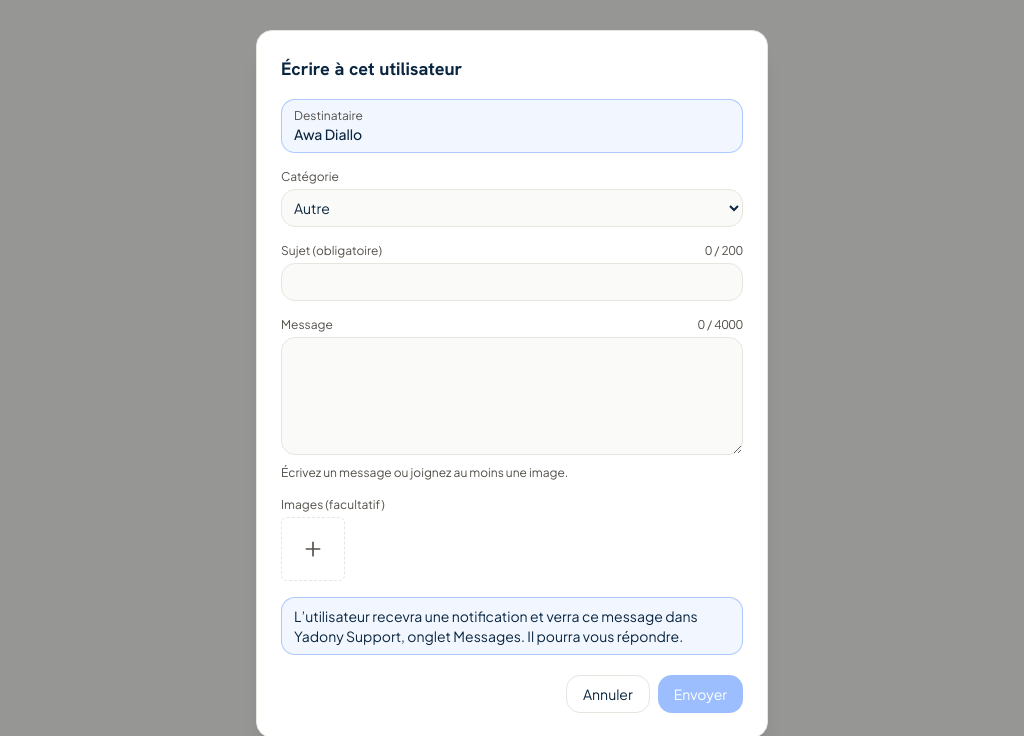
Test: StartSupportConversationDialog › 422 sur les pièces jointes : message sous les images
Type "Votre colis" into the field with test id "start-subject" at {"x": 512, "y": 282}, box [281,263,743,301]
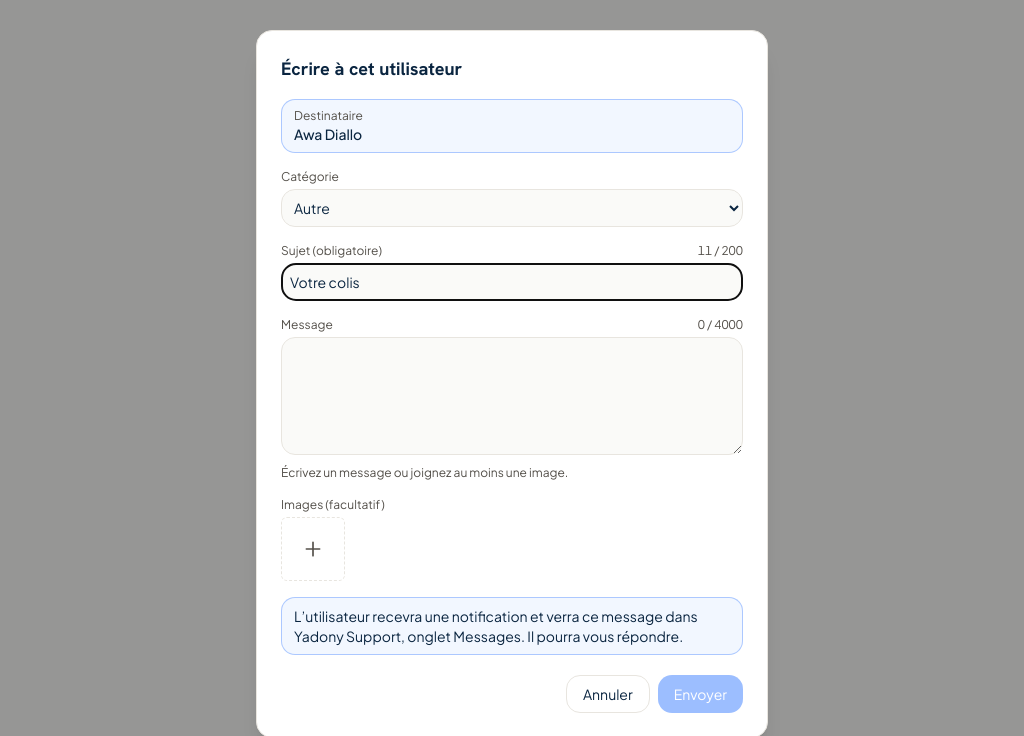
Type "Bonjour Awa" into the text box with test id "start-message" at {"x": 512, "y": 396}, box [281,337,743,455]
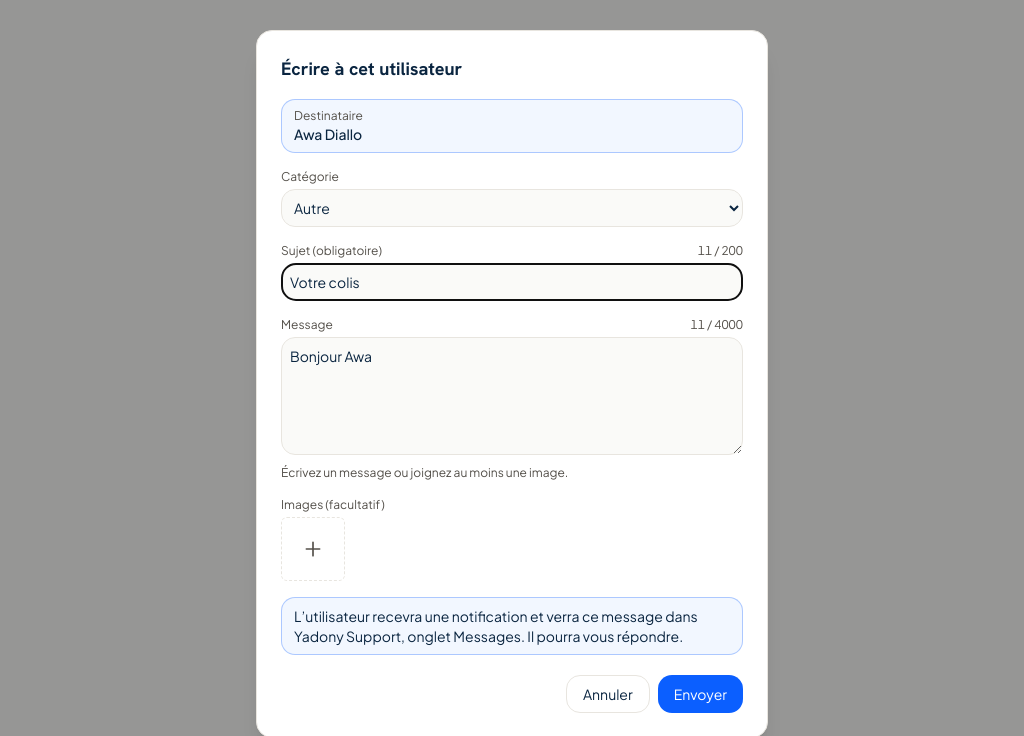
Click the button with test id "start-submit" at {"x": 700, "y": 694}, box [658,675,743,713]
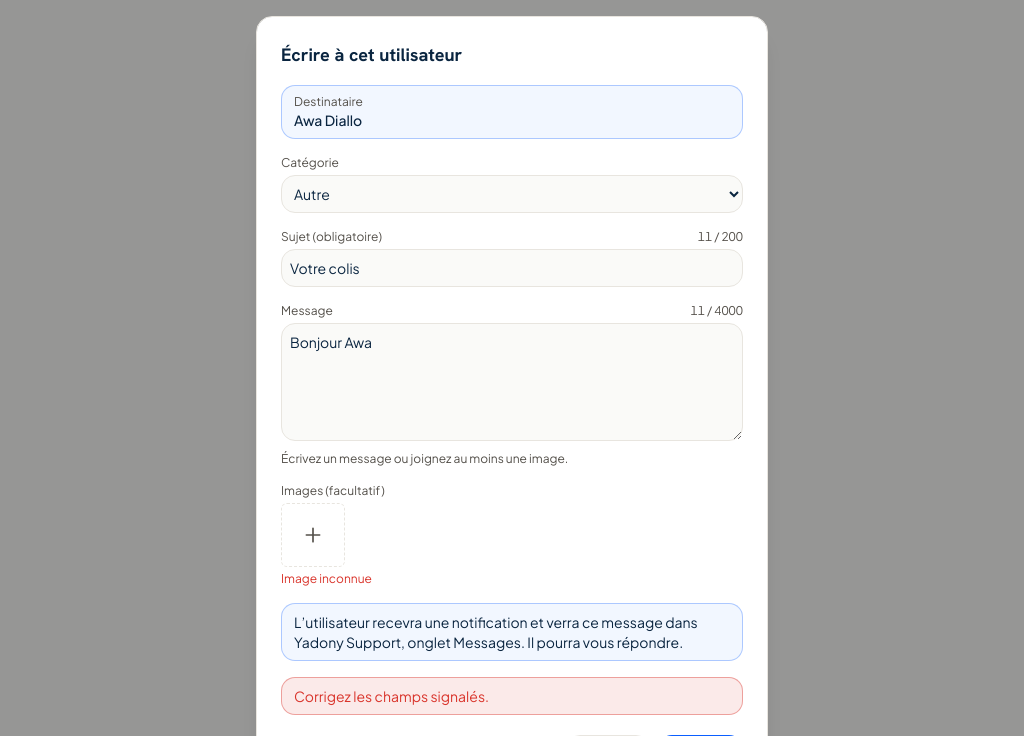
Result: the text with test id "start-field-error-attachmentKeys" reads "Image inconnue" at [281,571,372,586]
